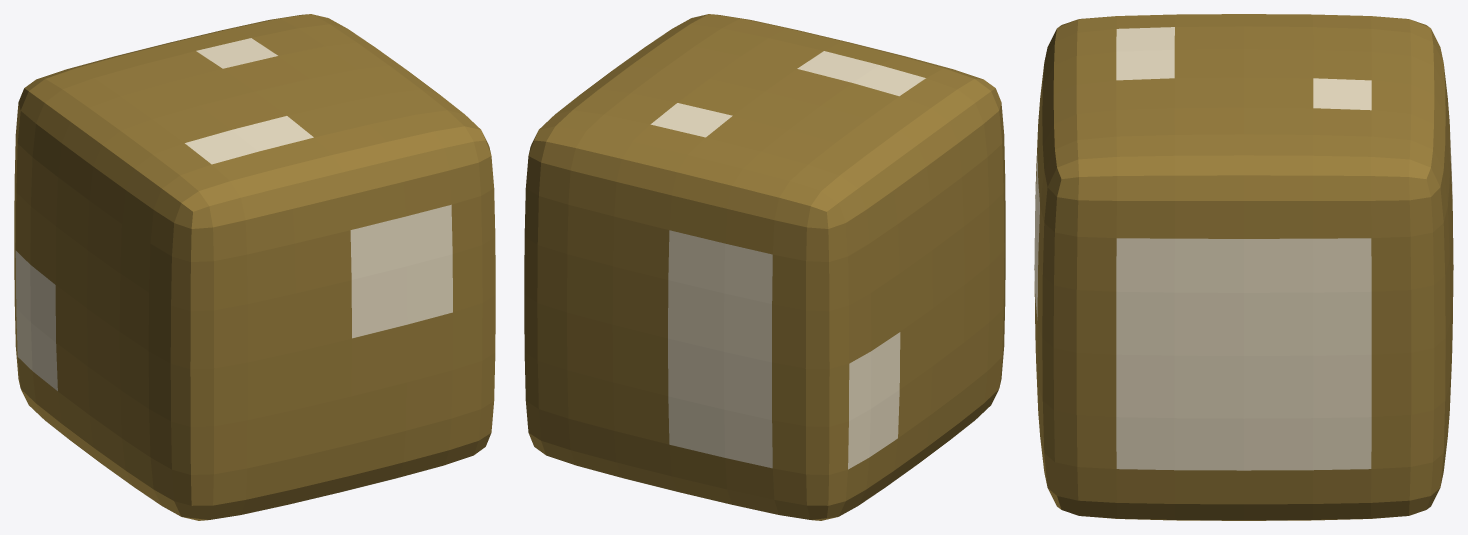
Rendered from StorageBox.fbx.
The picture shows the model from 3 angles, left to right: view 1: azimuth 30°, elevation 25°; view 2: azimuth 150°, elevation 25°; view 3: azimuth 270°, elevation 25°; orthographic projection. The views are drawn at different scales.
Parts seen in each view (by area): view 1: StorageBox; view 2: StorageBox; view 3: StorageBox.
Boxes of the visible parts, <box> form: StorageBox: <box>14,14,495,520</box>; StorageBox: <box>524,14,1005,520</box>; StorageBox: <box>1034,14,1453,520</box>.
Size of the model in its own units: 79.24 by 79.24 by 79.24.
